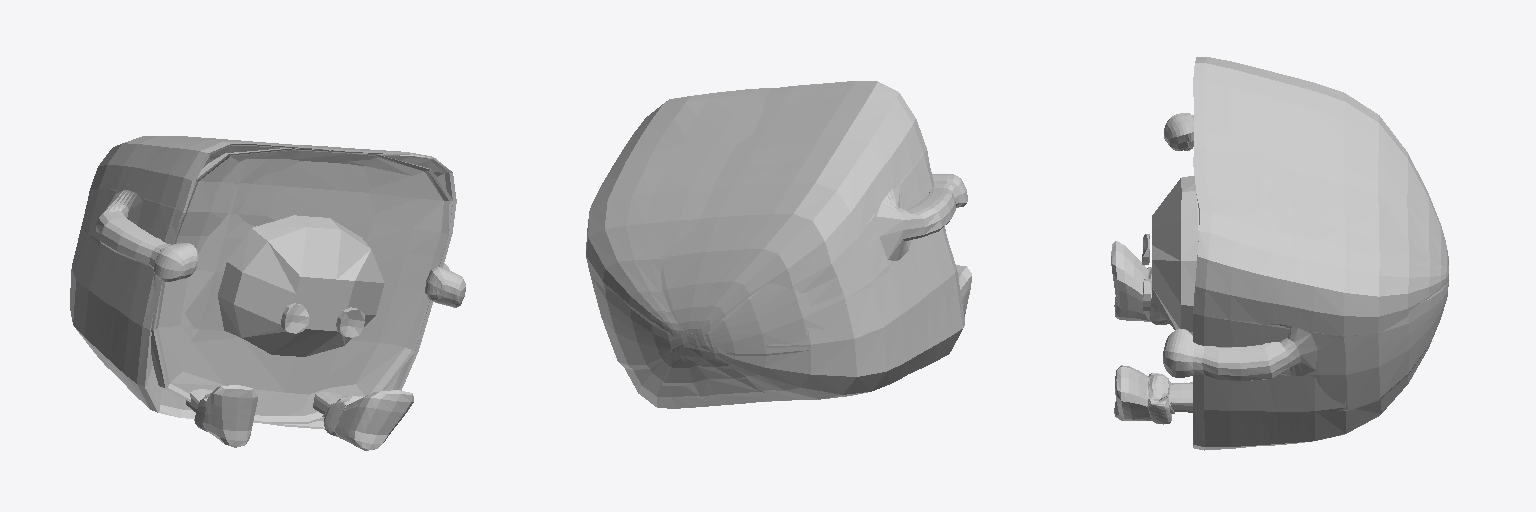
File: Pal_000004.obj
3 views of the same model, side by side, from view 1: azimuth 30°, elevation 25°; view 2: azimuth 150°, elevation 25°; view 3: azimuth 270°, elevation 25° (orthographic).
Parts seen in each view (by area): view 1: Cuerpo_de_aguacate_3.001_Cube.002, Hueso_Cubo.003, Ojos_Cubo.002; view 2: Cuerpo_de_aguacate_3.001_Cube.002; view 3: Cuerpo_de_aguacate_3.001_Cube.002, Hueso_Cubo.003.
Part boxes in pixels (x1,y1,x2,y2): Cuerpo_de_aguacate_3.001_Cube.002: (70, 136, 465, 450); Hueso_Cubo.003: (218, 215, 384, 356); Ojos_Cubo.002: (281, 303, 364, 337); Cuerpo_de_aguacate_3.001_Cube.002: (586, 81, 971, 408); Cuerpo_de_aguacate_3.001_Cube.002: (1111, 57, 1448, 450); Hueso_Cubo.003: (1152, 176, 1198, 334).
Bounding box in the file's own units: 1.14 × 1.05 × 1.01.